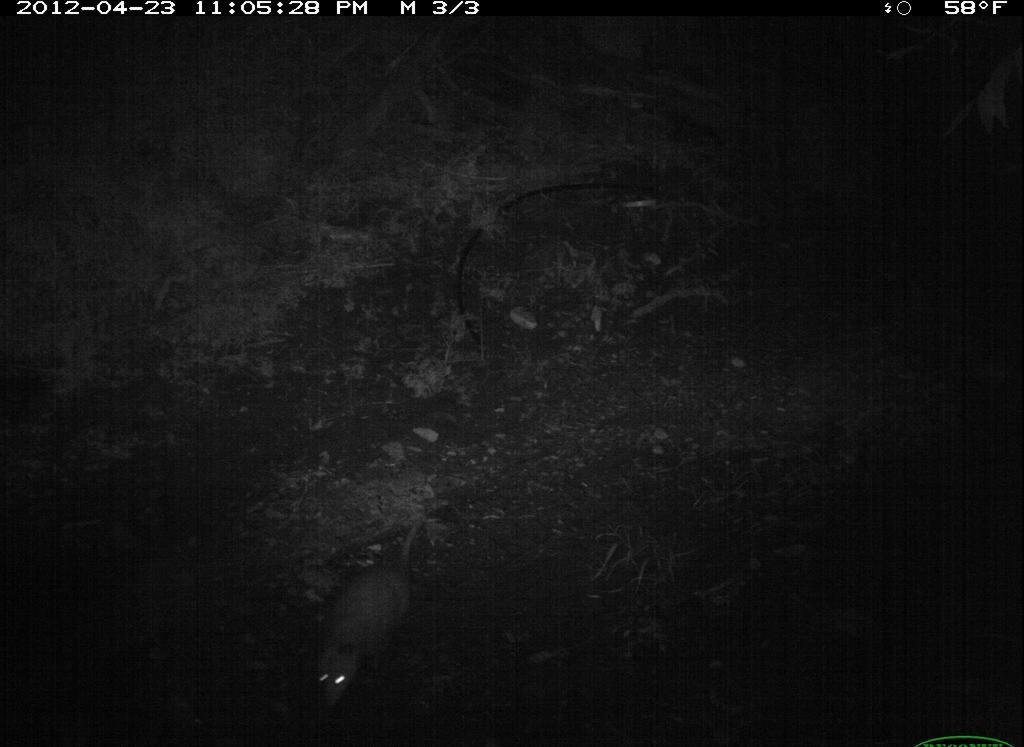opossum: (305, 510, 441, 719)
